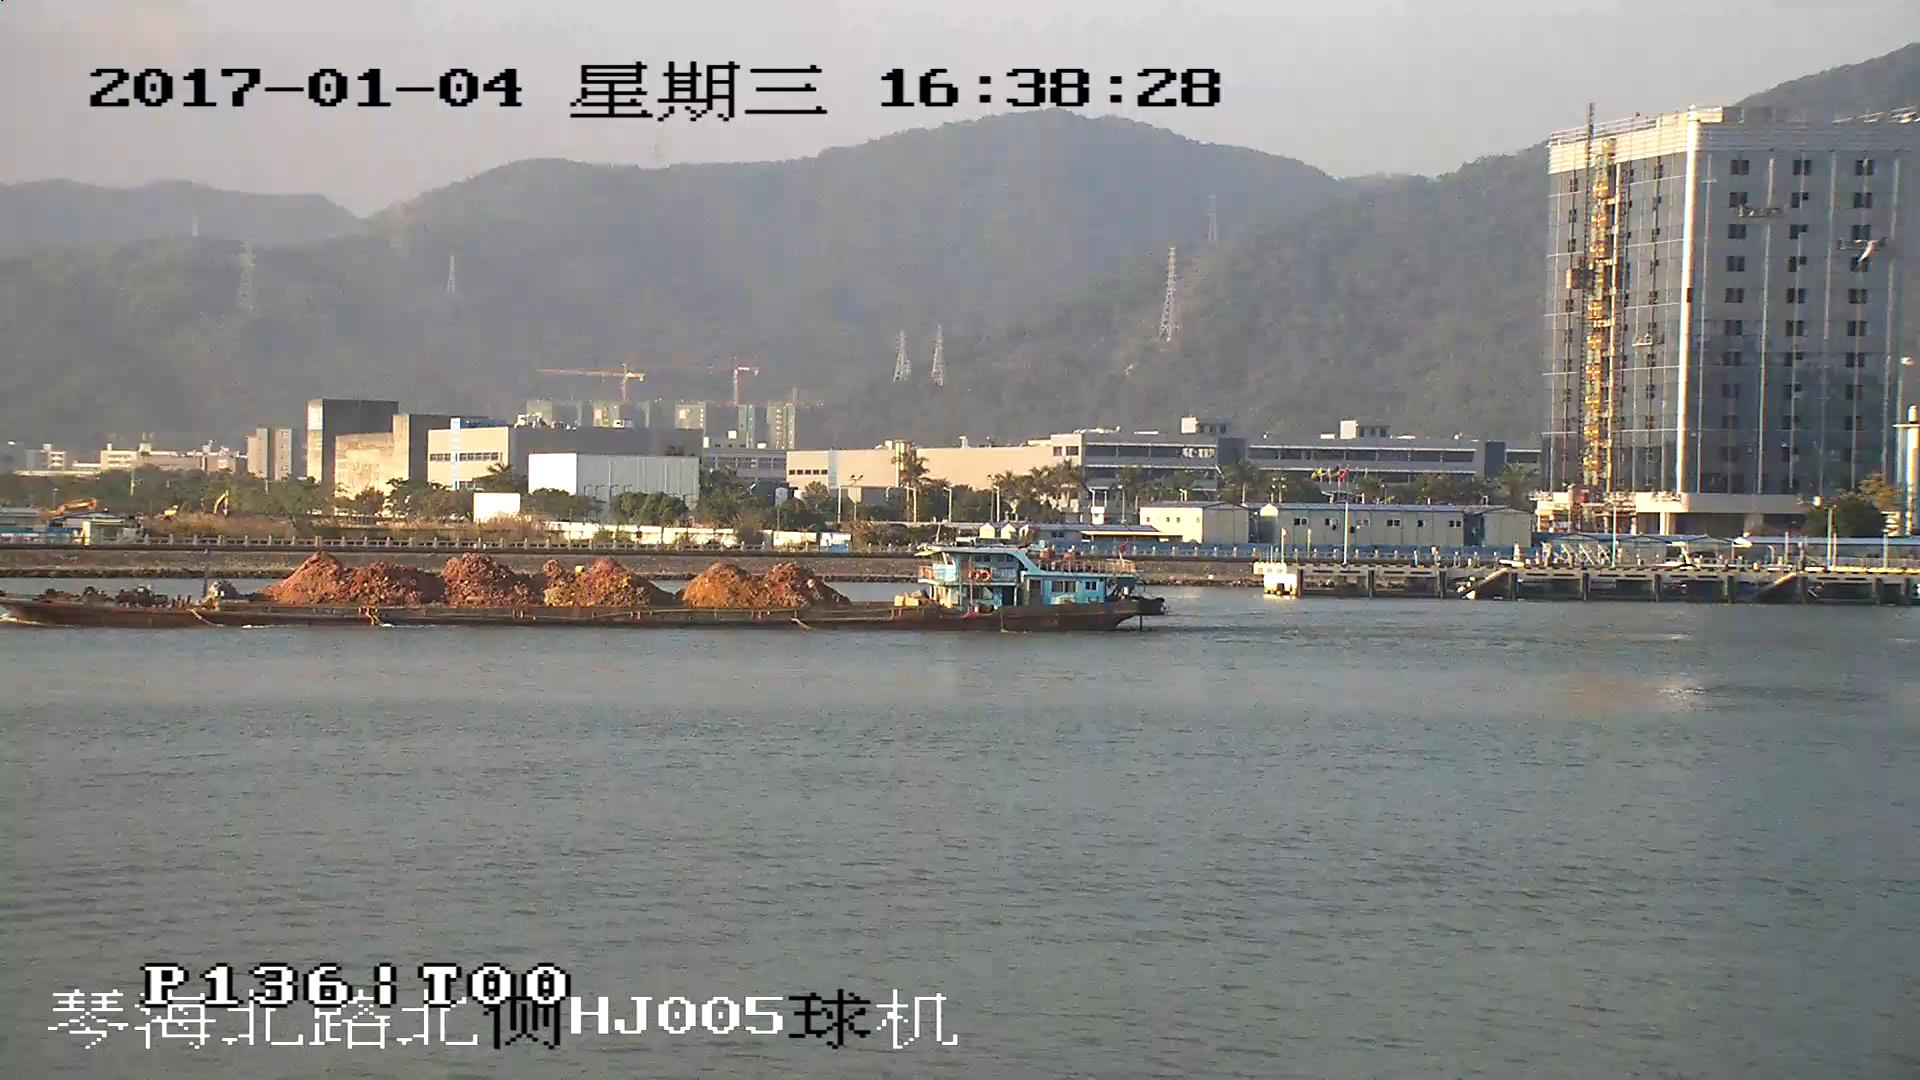ore carrier: (1, 549, 1157, 632)
